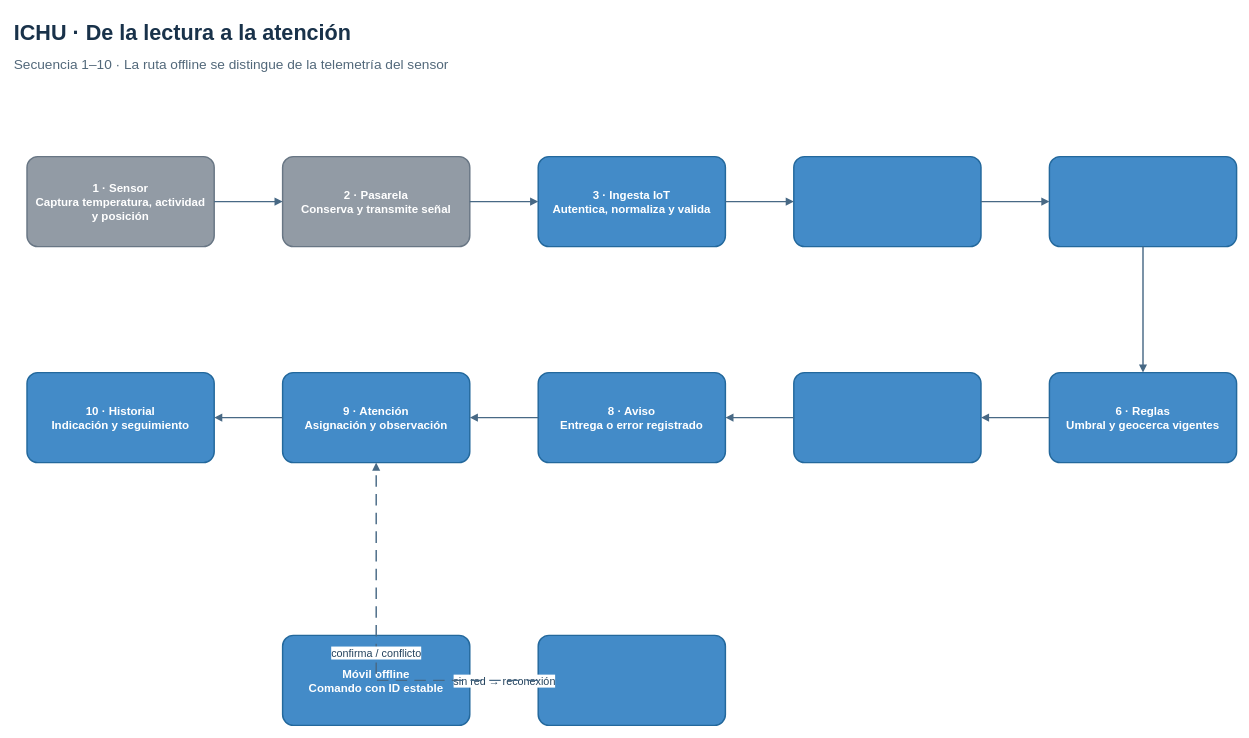
Some shapes in this 1249 by 738 pixel diagram are drawn without their labels. Each missing label, with the box of its shape:
4 · Lectura Deduplica y persiste: (793, 156, 981, 247)
5 · Evento durable LecturaAceptada: (1048, 156, 1237, 247)
7 · Alerta causal Lectura y versión de regla: (793, 372, 981, 463)
Sincronización Reintento idempotente y acuse: (537, 634, 726, 726)
